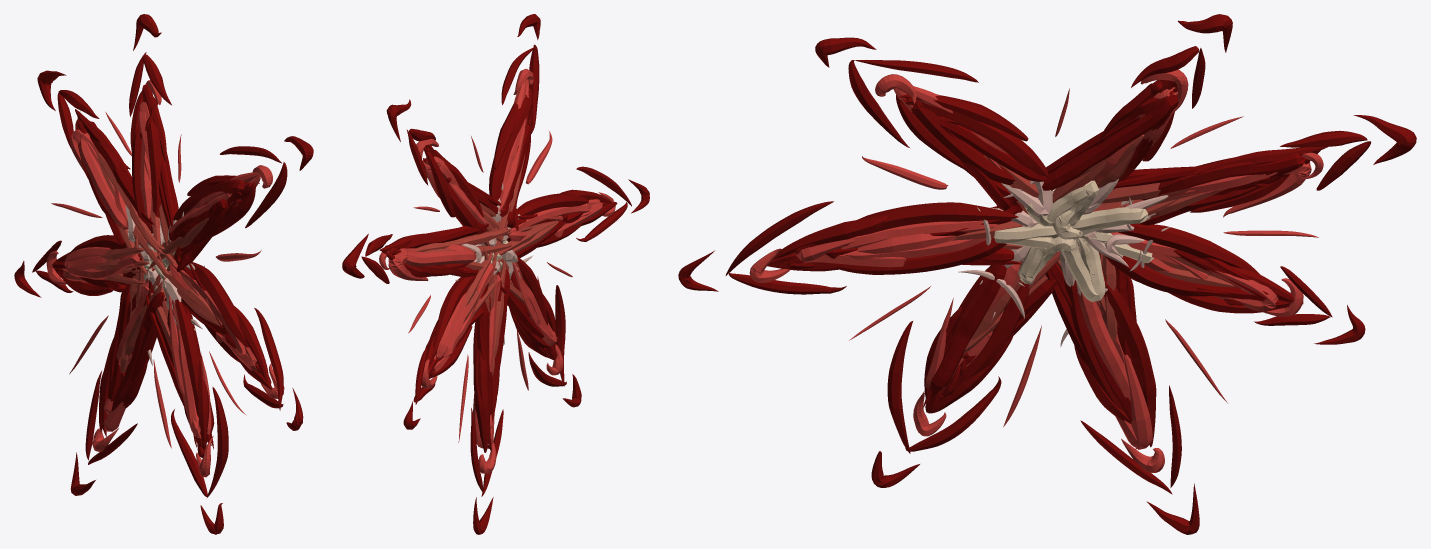
File: Impact.fbx
The picture shows the model from 3 angles, left to right: view 1: azimuth 30°, elevation 25°; view 2: azimuth 150°, elevation 25°; view 3: azimuth 270°, elevation 25°; orthographic projection. The views are drawn at different scales.
Parts seen in each view (by area): view 1: Impact; view 2: Impact; view 3: Impact.
Boxes of the visible parts, x1=… form: Impact: x1=14, y1=14, x2=313, y2=534; Impact: x1=342, y1=14, x2=649, y2=534; Impact: x1=678, y1=14, x2=1416, y2=534.
Size of the model in its own units: 0.362 by 1.61 by 1.89.
